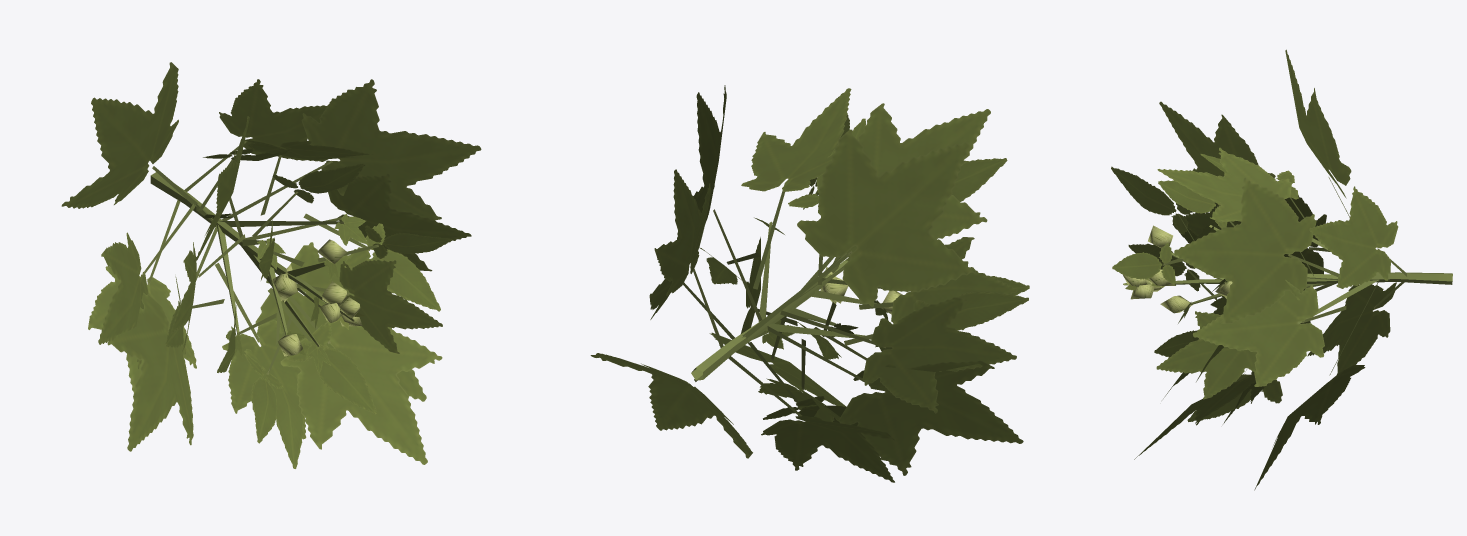
The model's file is p_male_afghan_preflower_c1_cards.obj.
The picture shows the model from 3 angles, left to right: view 1: azimuth 30°, elevation 25°; view 2: azimuth 150°, elevation 25°; view 3: azimuth 270°, elevation 25°; orthographic projection. The views are drawn at different scales.
Bounding box in the file's own units: 1.25 × 1.26 × 0.951.
1 material, 1 textured.
